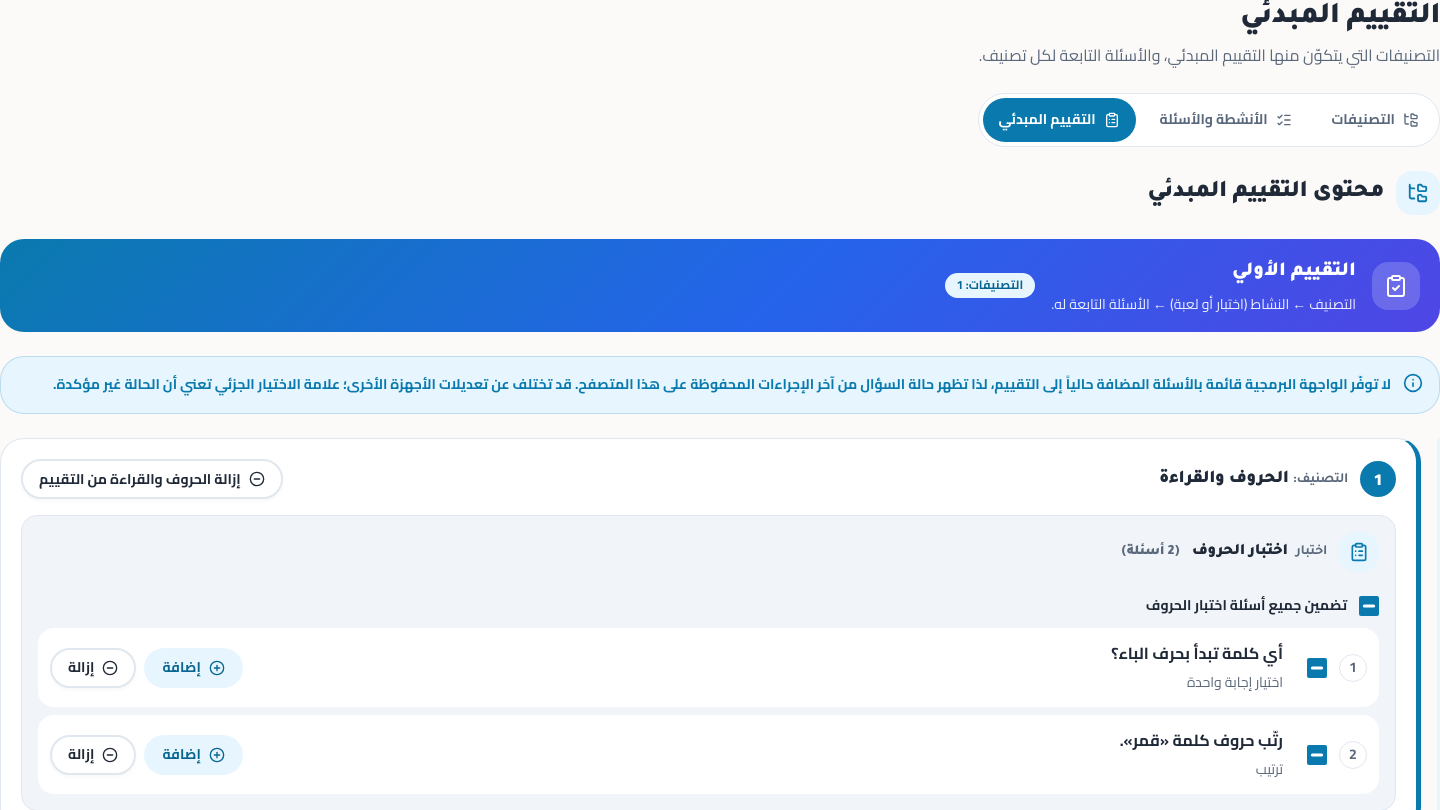
it: InitialAssessmentAdminPage (category → questions, client revision 2026-10) › adds a question and reports only what happened in this session
Expected: the text "لا توفّر الواجهة البرمجية قائمة بالأسئلة" is shown, [53,372,1391,398]
Click the button with aria-label "إضافة «أي كلمة تبدأ بحرف الباء؟» إلى التقييم".
click(194, 668)  # box [144,648,243,688]
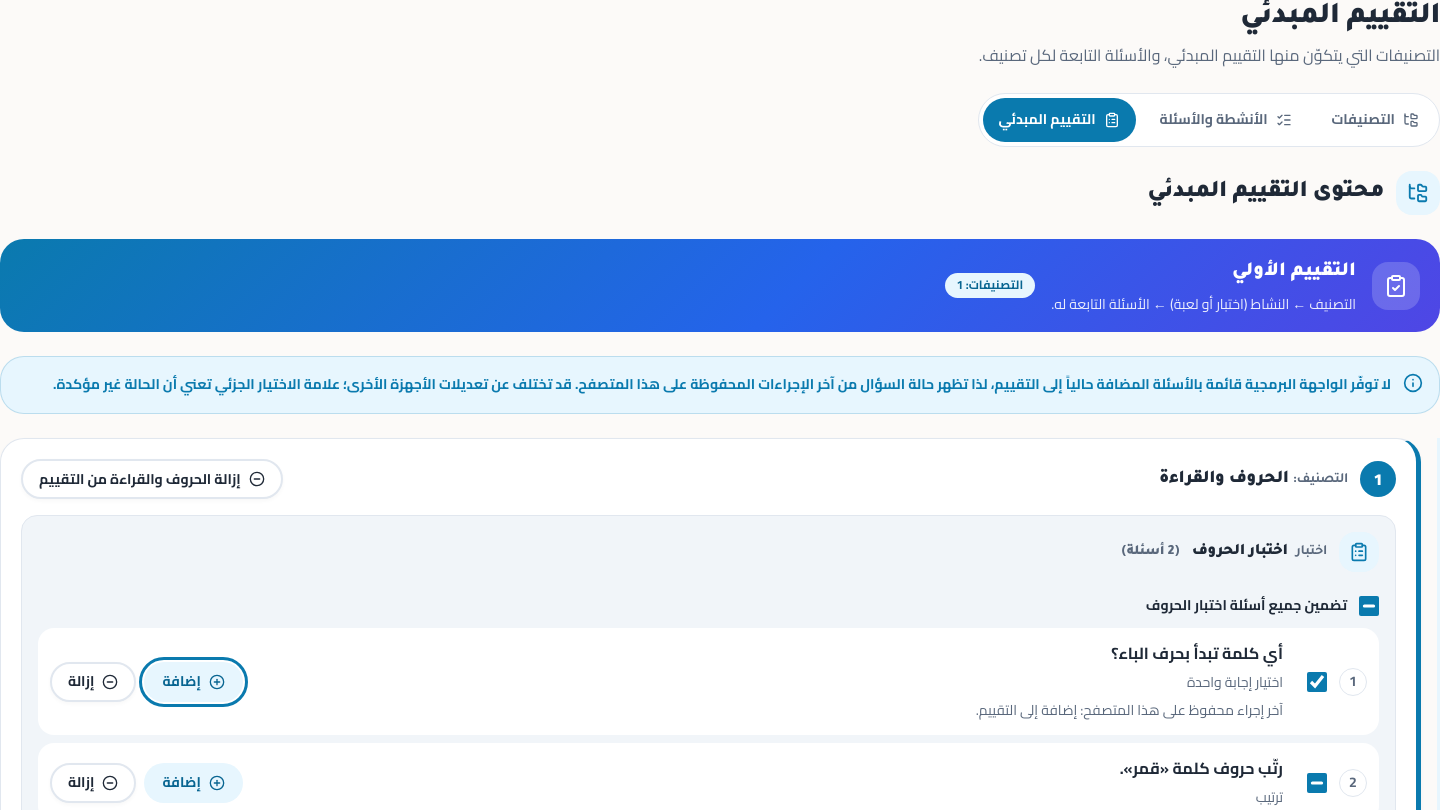
Now the text "آخر إجراء محفوظ على هذا المتصفح: إضافة إلى التقييم." is shown, box [976,697,1283,723]
